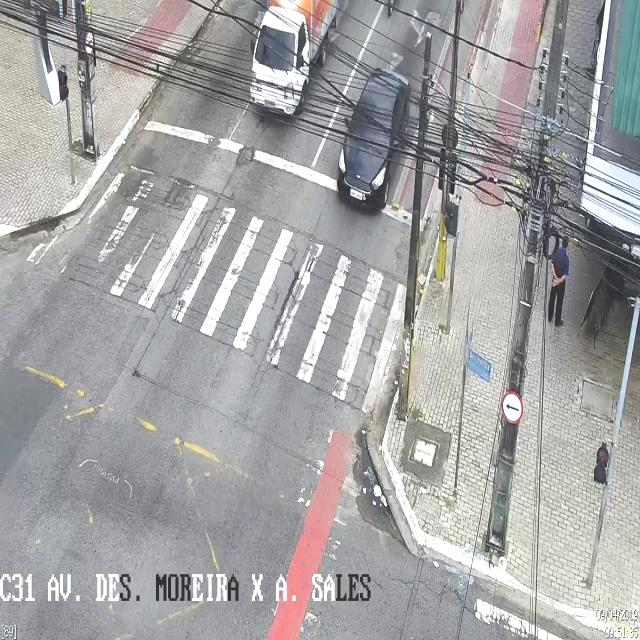Car: (337, 65, 409, 216), (247, 2, 343, 112)
